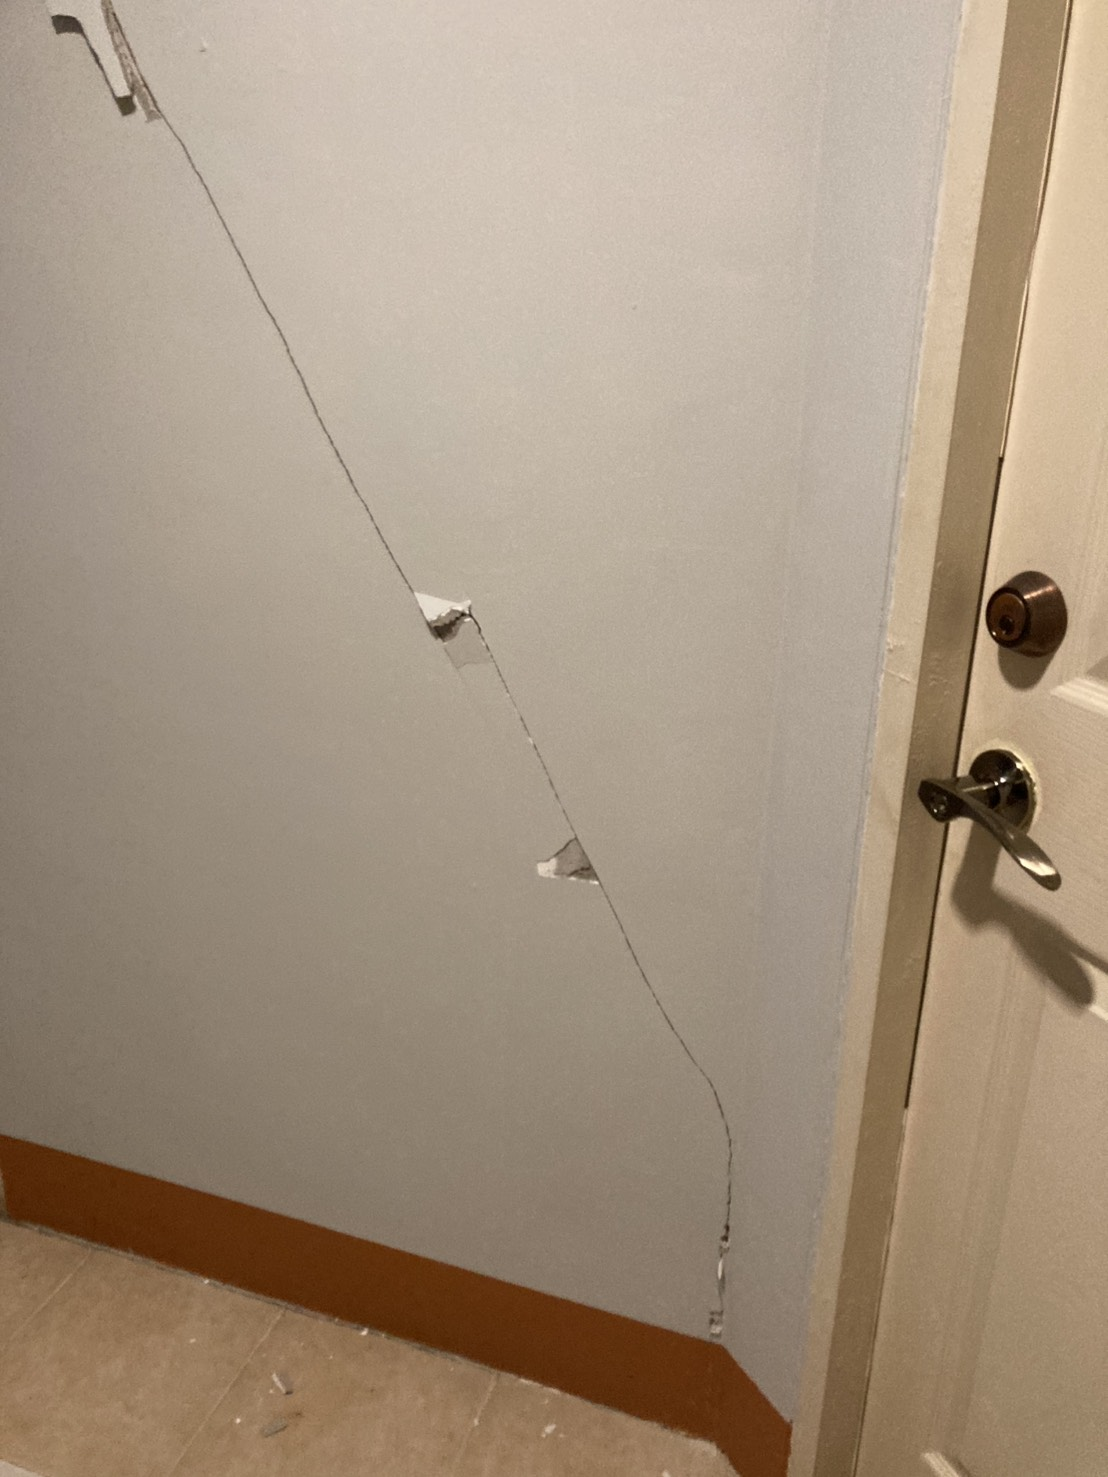Medium: (155, 113, 757, 1148)
